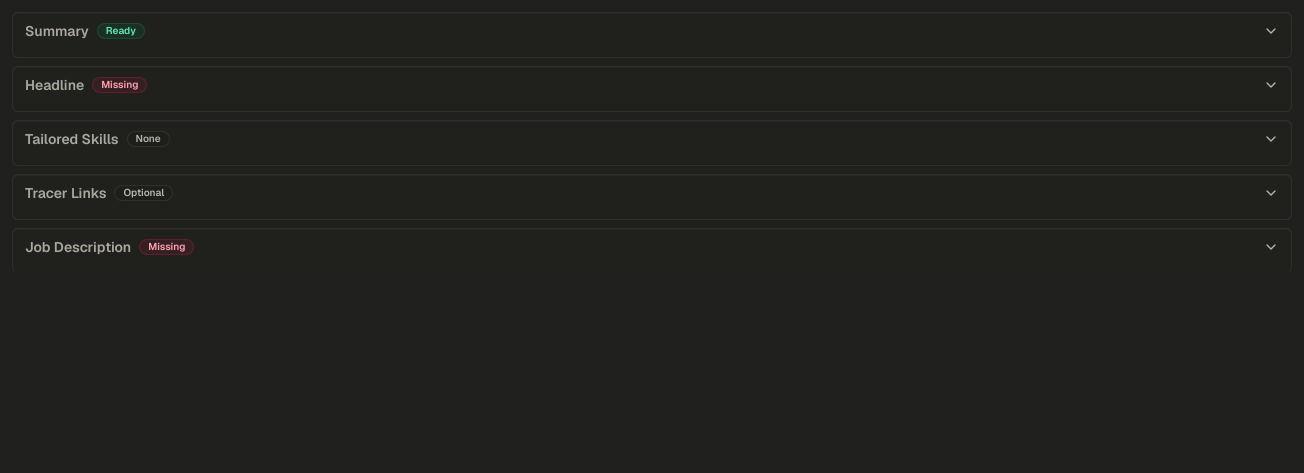
Test case: TailoringSections summary field › shows a word count that toggles to characters and back on click
What coordinates should you click on to do the following:
click the button "Summary Ready"
I would click on:
 (57, 31)
Its box is [13,13,1291,57].
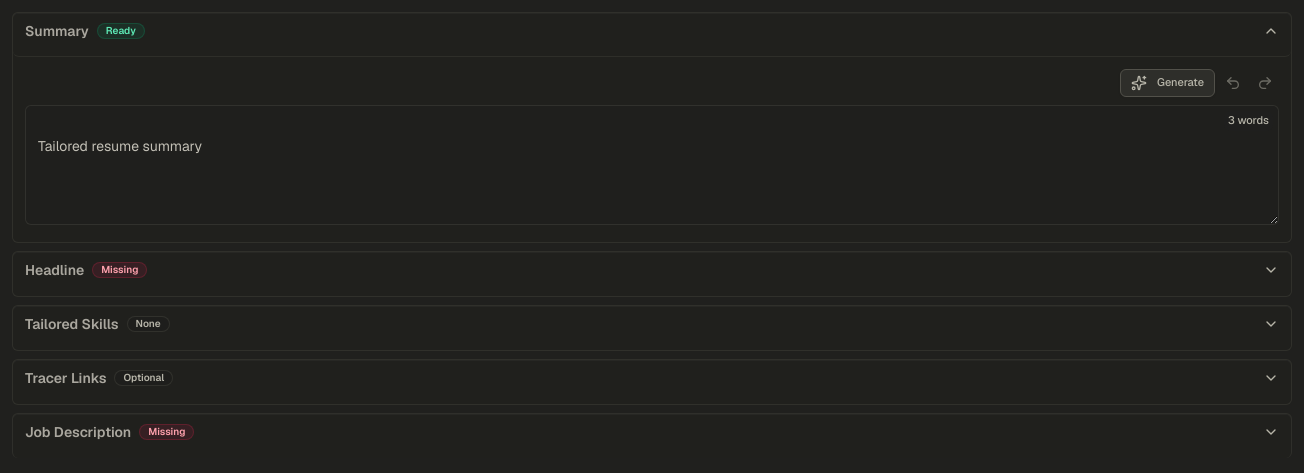
What coordinates should you click on to do the following:
click the button "3 words"
I would click on:
 (1248, 121)
Its box is [1224,111,1273,131].
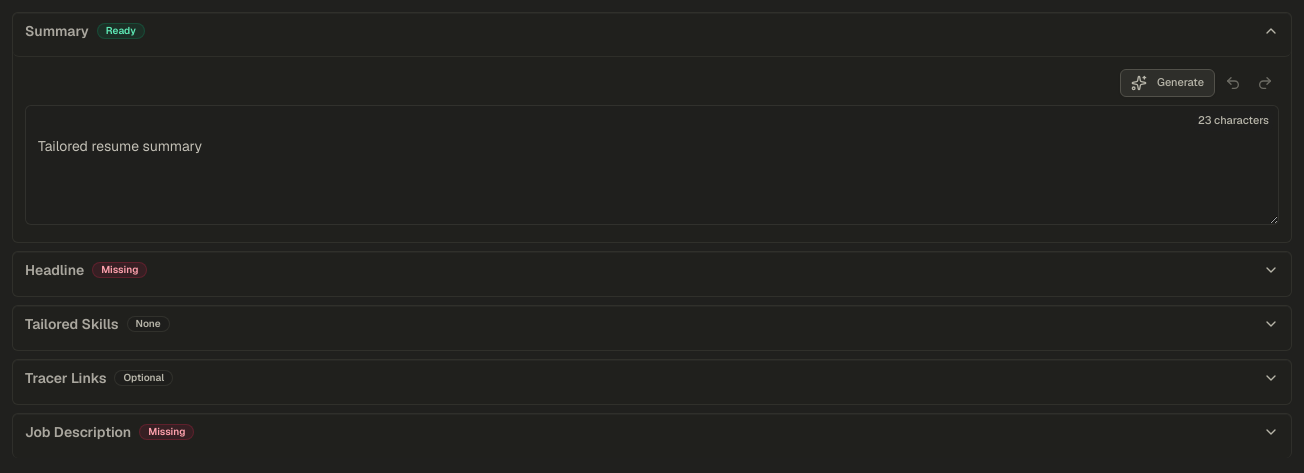
expect the button "23 characters" is shown: met
What coordinates should you click on to do the following:
click the button "23 characters"
I would click on:
 (1233, 121)
Its box is [1194,111,1273,131].
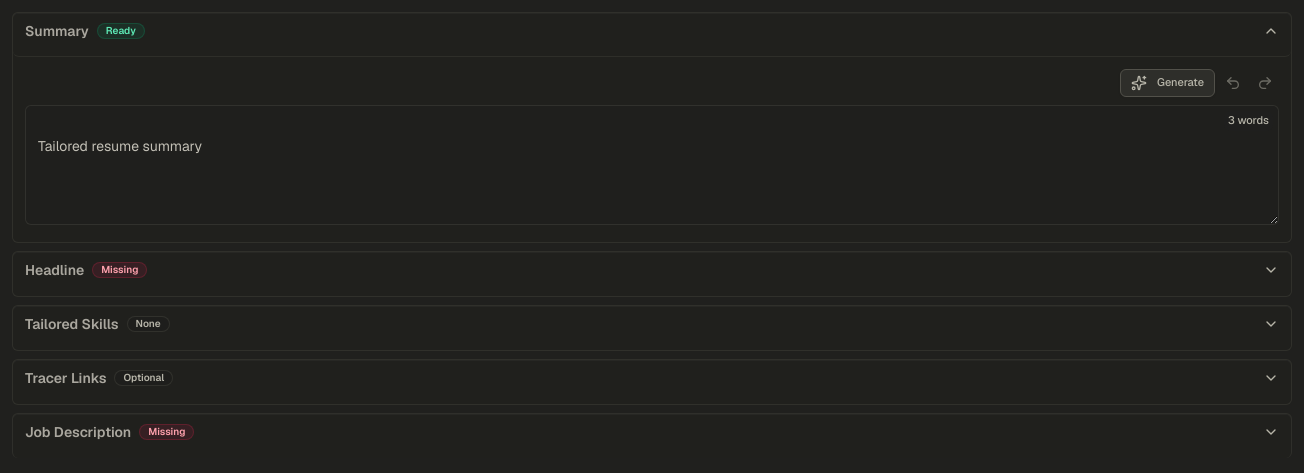
expect the button "3 words" is shown: met, box [1224,111,1273,131]
